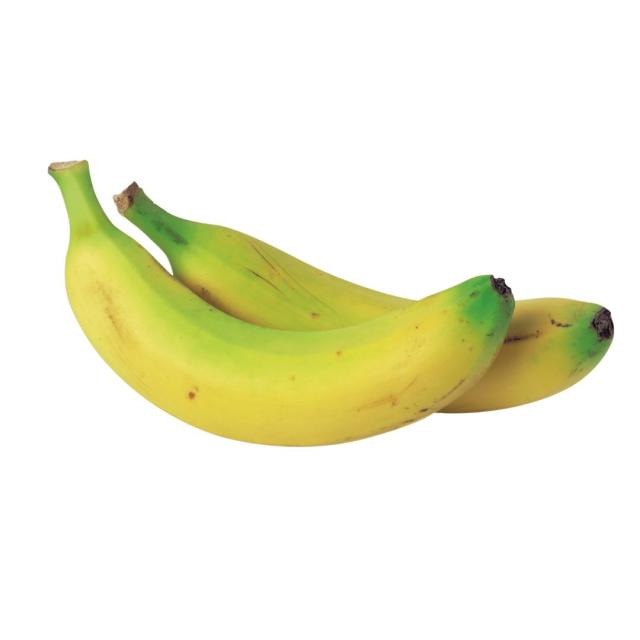Pisang: (49, 156, 517, 452), (123, 180, 618, 412)
